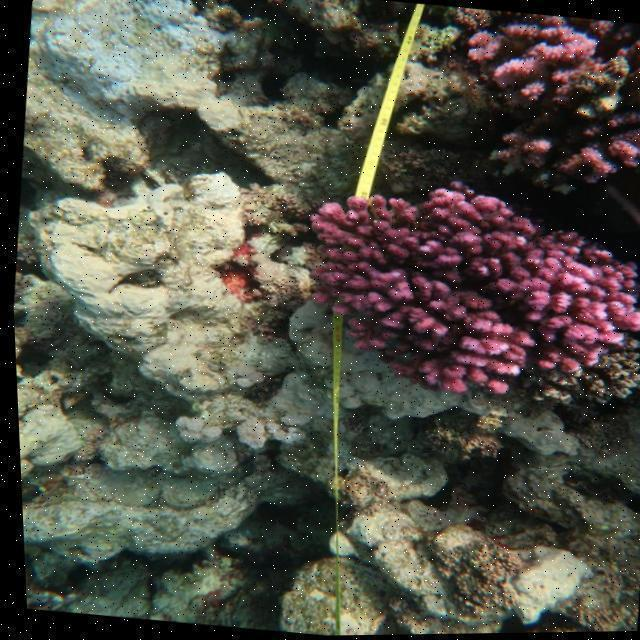Healthy Coral: (299, 166, 640, 345), (370, 7, 640, 177), (335, 292, 526, 406)
